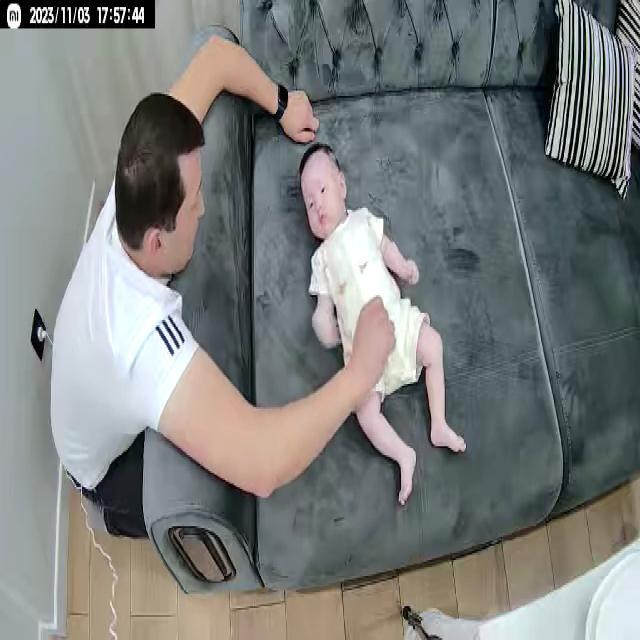baby: (298, 142, 467, 512)
